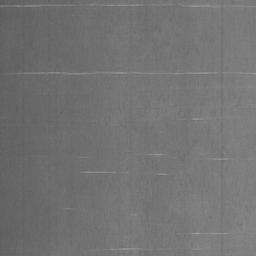Waist folding: (91, 231, 229, 252), (0, 0, 256, 9), (0, 70, 256, 77), (145, 152, 256, 162), (81, 169, 189, 177), (64, 206, 93, 211), (183, 116, 203, 122), (134, 130, 162, 134), (237, 223, 256, 228), (107, 33, 136, 35)
